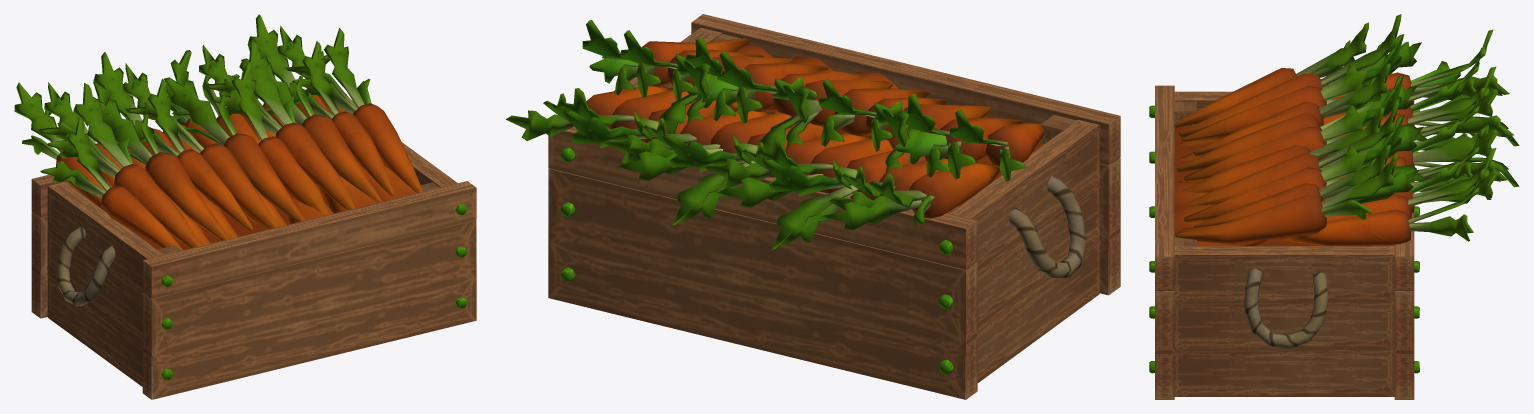
Rendered from FarmCrate_Carrot.gltf.
3 views of the same model, side by side, from view 1: azimuth 30°, elevation 25°; view 2: azimuth 150°, elevation 25°; view 3: azimuth 270°, elevation 25° (orthographic). The views are drawn at different scales.
Parts seen in each view (by area): view 1: FarmCrate_Carrot; view 2: FarmCrate_Carrot; view 3: FarmCrate_Carrot.
Part boxes in pixels (left/top/right/bottom): FarmCrate_Carrot: left=14, top=14, right=476, bottom=399; FarmCrate_Carrot: left=506, top=14, right=1120, bottom=399; FarmCrate_Carrot: left=1149, top=14, right=1519, bottom=399.
Bounding box in the file's own units: 0.7138 × 0.4113 × 0.567.
3 materials, 3 textured.
